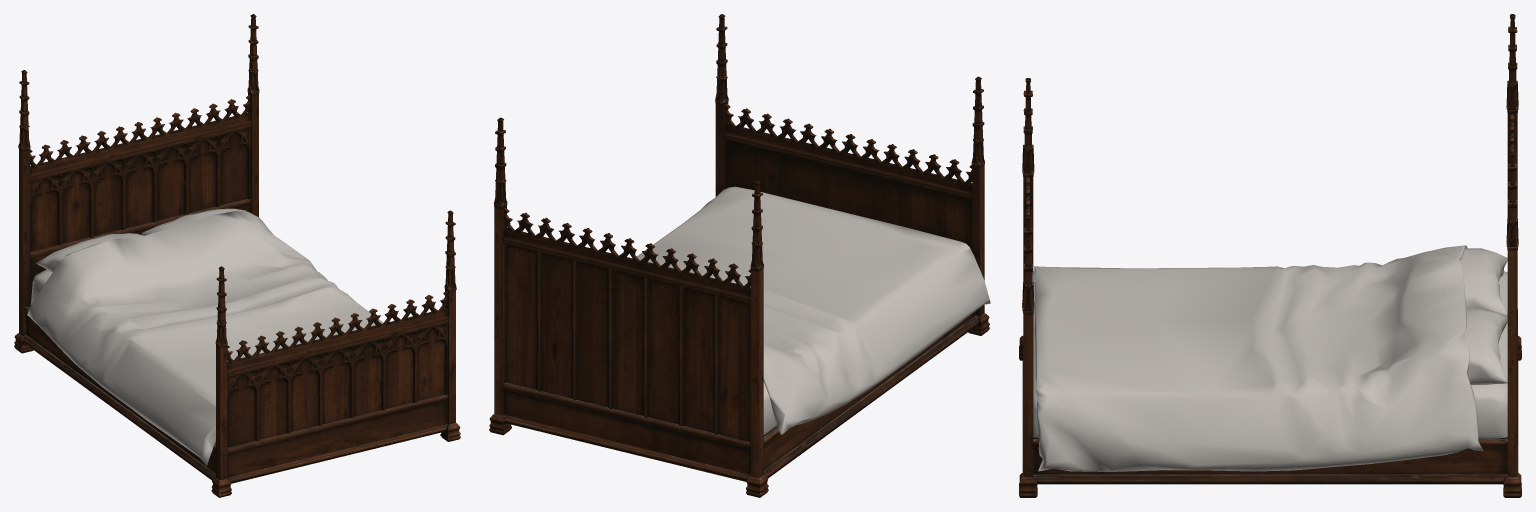
3 renders of one model, left to right at view 1: azimuth 30°, elevation 25°; view 2: azimuth 150°, elevation 25°; view 3: azimuth 270°, elevation 25°, orthographic. The views are drawn at different scales.
Parts seen in each view (by area): view 1: GothicBed_01; view 2: GothicBed_01; view 3: GothicBed_01.
Boxes of the visible parts, x1,y1,x2,y2 form: GothicBed_01: (14, 14, 460, 497); GothicBed_01: (489, 14, 990, 497); GothicBed_01: (1019, 14, 1521, 497).
Size of the model in its own units: 1.49 by 1.53 by 2.04.
1 material, 1 textured.
